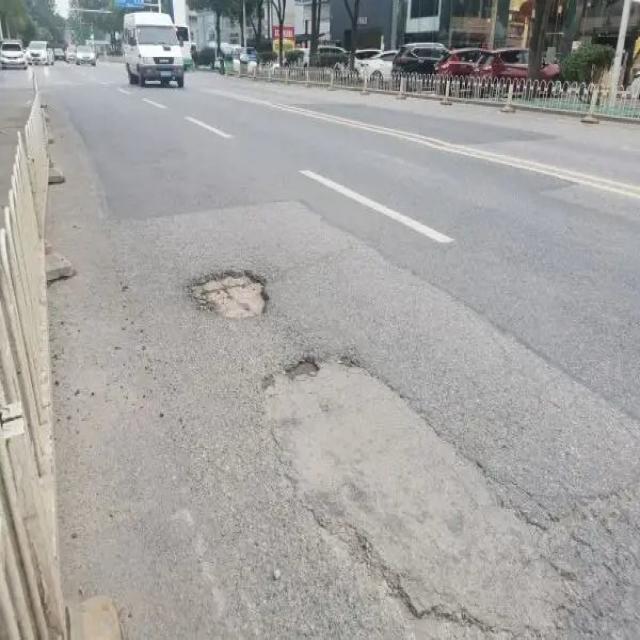Pothole: (256, 354, 579, 633), (187, 272, 275, 317)
